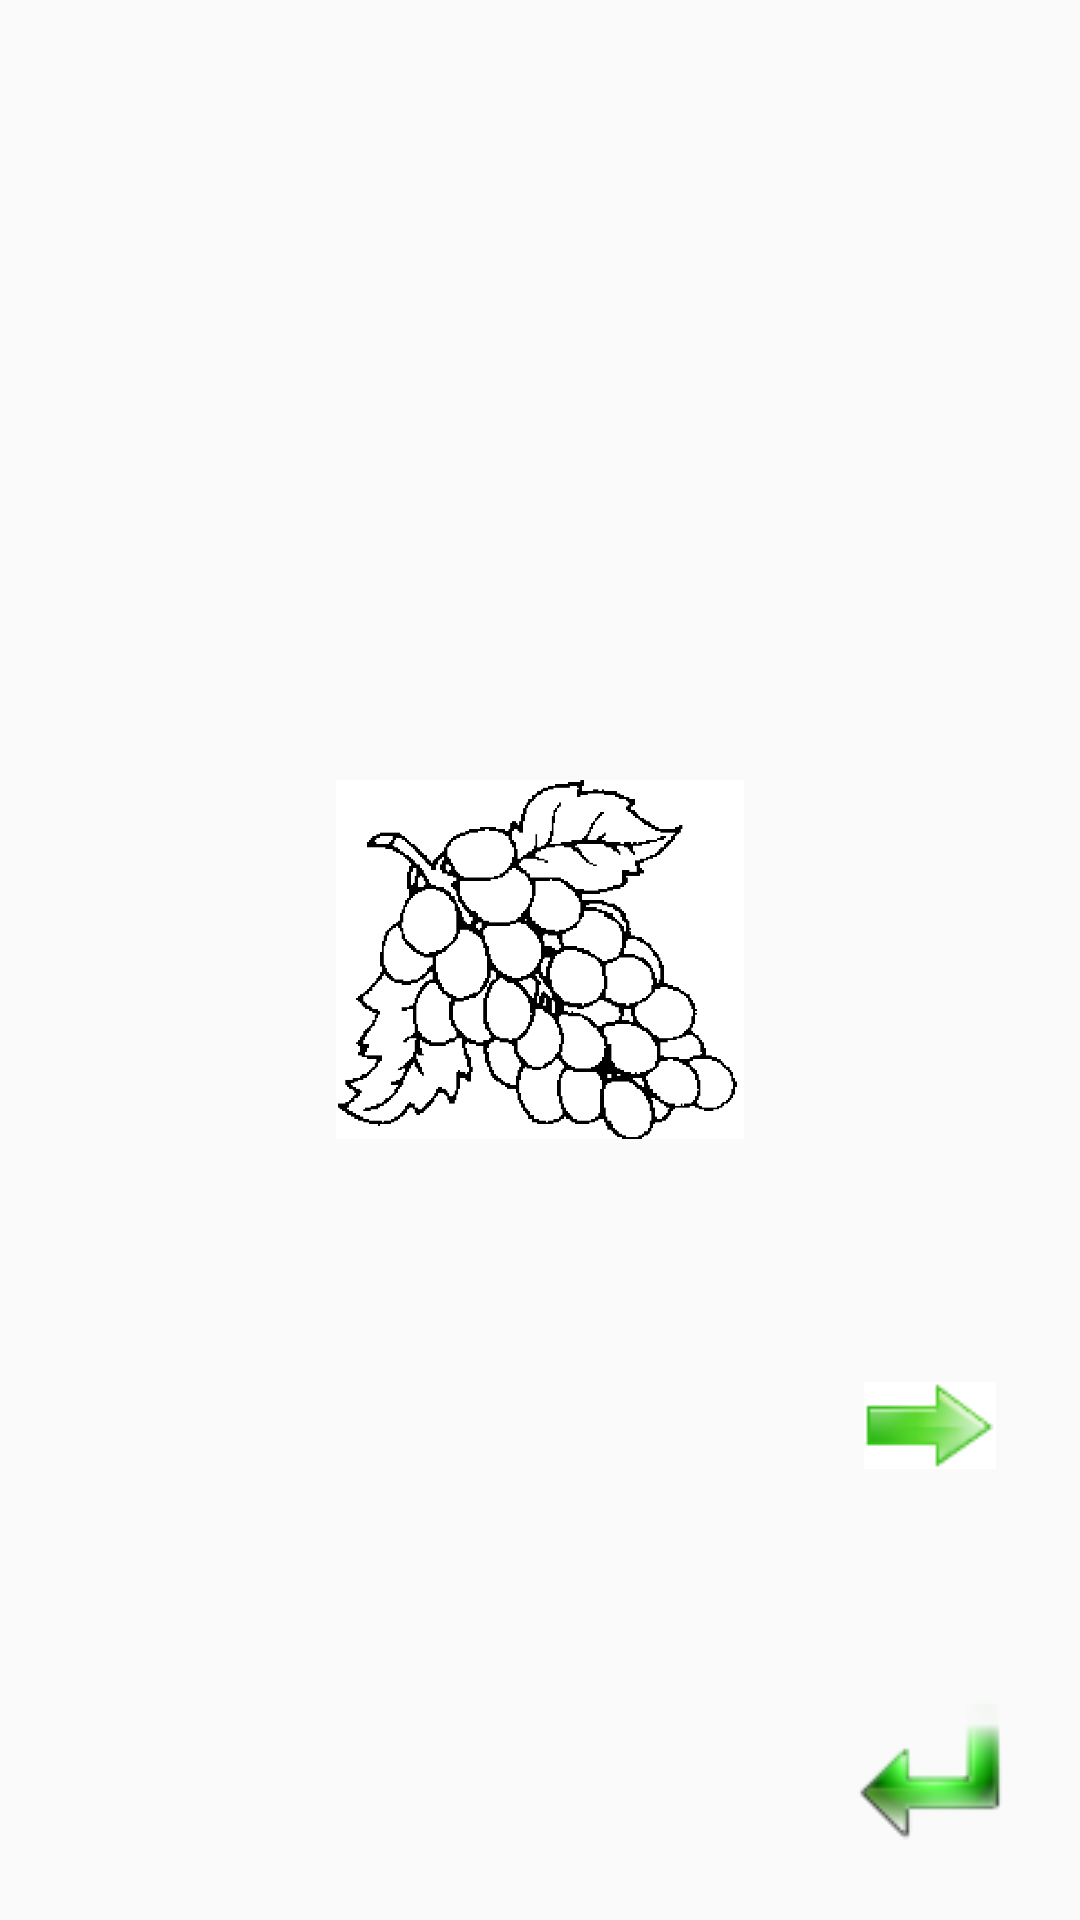

Where icons sit on this 1080×1920 app screen, as (left=x1, top=y1, right=x2, bottom=y2):
back arrow: (left=860, top=1726, right=1000, bottom=1838)
next arrow: (left=866, top=1384, right=993, bottom=1467)
